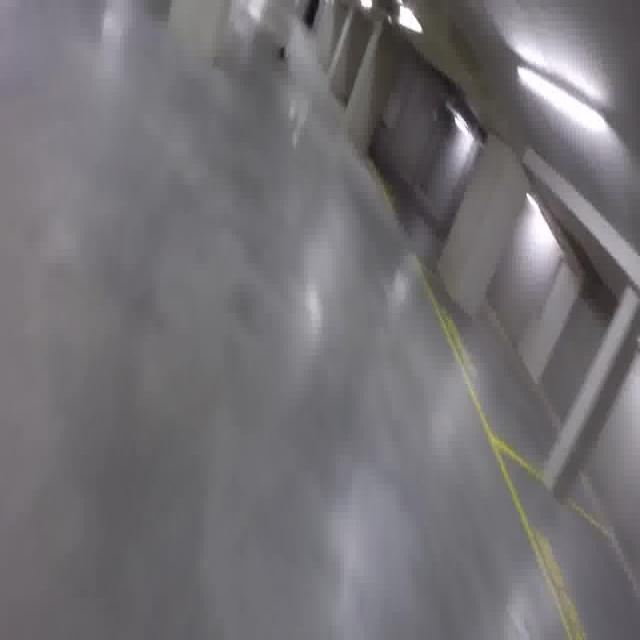drones: (267, 32, 295, 74)
